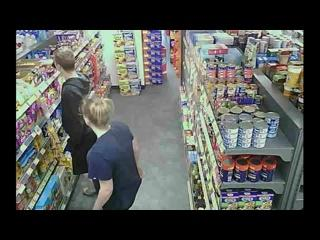shoplifting: (80, 95, 144, 210), (51, 47, 99, 193)
